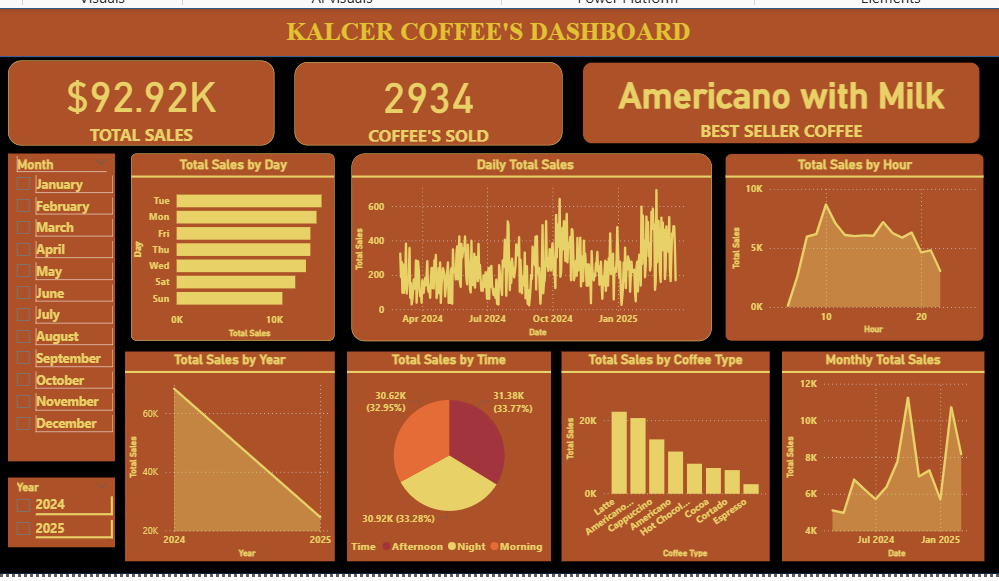

This screenshot's page, from the dashboard's own definition file:
{"tool":"powerbi","page":{"name":"Page 1","canvas":[1280,720],"ordinal":0},"visuals":[{"type":"textbox","box":[0,102,1256.7,49.1],"z":0},{"type":"textbox","box":[285.4,49.1,461.1,52.9],"z":1000},{"type":"shape","box":[0,0,1279.4,720],"z":2000},{"type":"shape","box":[0,0,1279.4,62.4],"z":3000},{"type":"textbox","box":[354.6,6.5,542.4,50.2],"z":4000},{"type":"barChart","fields":{"Category":["coffee_data_cleaned.day_purchased"],"Y":["Sum(coffee_data_cleaned.total_transaction)"]},"box":[172,185.2,258.9,238.1],"z":5000},{"type":"card","fields":{"Values":["Sum(coffee_data_cleaned.total_transaction)"]},"box":[15.1,66.2,338.8,107.9],"z":6000},{"type":"card","fields":{"Values":["CountNonNull(coffee_data_cleaned.coffee_type)"]},"box":[378.5,68.1,340.7,106],"z":7000},{"type":"lineChart","title":"Daily Total Sales","fields":{"Y":["Sum(coffee_data_cleaned.total_transaction)"],"Category":["coffee_data_cleaned.date_purchased.Variation.Date Hierarchy.Year","coffee_data_cleaned.date_purchased.Variation.Date Hierarchy.Quarter","coffee_data_cleaned.date_purchased.Variation.Date Hierarchy.Month","coffee_data_cleaned.date_purchased.Variation.Date Hierarchy.Day"]},"box":[452.3,185.5,458,238.5],"z":8000},{"type":"slicer","fields":{"Values":["coffee_data_cleaned.date_purchased.Variation.Date Hierarchy.Month"]},"box":[15.1,185.2,136.1,391.2],"z":9000},{"type":"slicer","fields":{"Values":["coffee_data_cleaned.date_purchased.Variation.Date Hierarchy.Year"]},"box":[15.1,596.2,136.3,89],"z":10000},{"type":"pieChart","fields":{"Category":["coffee_data_cleaned.time_purchased"],"Y":["Sum(coffee_data_cleaned.total_transaction)"]},"box":[446.6,437.2,259.3,266.9],"z":11000},{"type":"areaChart","fields":{"Category":["coffee_data_cleaned.hour_purchased"],"Y":["Sum(coffee_data_cleaned.total_transaction)"]},"box":[927.4,185.5,329.3,238.5],"z":12000},{"type":"card","fields":{"Values":["Min(coffee_data_cleaned.coffee_type)"]},"box":[745.7,68.1,505.3,104.1],"z":13000},{"type":"areaChart","fields":{"Category":["coffee_data_cleaned.date_purchased.Variation.Date Hierarchy.Year"],"Y":["Sum(coffee_data_cleaned.total_transaction)"]},"box":[164.7,437.2,266.9,266.9],"z":14000},{"type":"columnChart","fields":{"Y":["Sum(coffee_data_cleaned.total_transaction)"],"Category":["coffee_data_cleaned.coffee_type"]},"box":[719.2,437.2,265,266.9],"z":15000},{"type":"stackedAreaChart","title":"Monthly Total Sales","fields":{"Category":["coffee_data_cleaned.date_purchased.Variation.Date Hierarchy.Year","coffee_data_cleaned.date_purchased.Variation.Date Hierarchy.Month"],"Y":["Sum(coffee_data_cleaned.total_transaction)"]},"box":[999.3,437.2,257.4,266.9],"z":16000}]}

Visuals, with their boxes in screenshot pixels (x1, y1, x2, y2):
textbox: BBox(0, 87, 992, 126)
textbox: BBox(217, 44, 585, 87)
shape: BBox(0, 5, 998, 580)
shape: BBox(0, 5, 998, 55)
textbox: BBox(273, 10, 705, 50)
barChart - coffee_data_cleaned.day_purchased x Sum(coffee_data_cleaned.total_transaction): BBox(127, 153, 333, 343)
card - Sum(coffee_data_cleaned.total_transaction): BBox(2, 58, 272, 144)
card - CountNonNull(coffee_data_cleaned.coffee_type): BBox(292, 60, 563, 144)
"Daily Total Sales" lineChart: BBox(351, 153, 716, 344)
slicer - coffee_data_cleaned.date_purchased.Variation.Date Hierarchy.Month: BBox(2, 153, 110, 465)
slicer - coffee_data_cleaned.date_purchased.Variation.Date Hierarchy.Year: BBox(2, 481, 110, 552)
pieChart - coffee_data_cleaned.time_purchased x Sum(coffee_data_cleaned.total_transaction): BBox(346, 354, 553, 567)
areaChart - coffee_data_cleaned.hour_purchased x Sum(coffee_data_cleaned.total_transaction): BBox(730, 153, 992, 344)
card - Min(coffee_data_cleaned.coffee_type): BBox(585, 60, 988, 143)
areaChart - coffee_data_cleaned.date_purchased.Variation.Date Hierarchy.Year x Sum(coffee_data_cleaned.total_transaction): BBox(121, 354, 334, 567)
columnChart - Sum(coffee_data_cleaned.total_transaction) x coffee_data_cleaned.coffee_type: BBox(563, 354, 775, 567)
"Monthly Total Sales" stackedAreaChart: BBox(787, 354, 992, 567)
